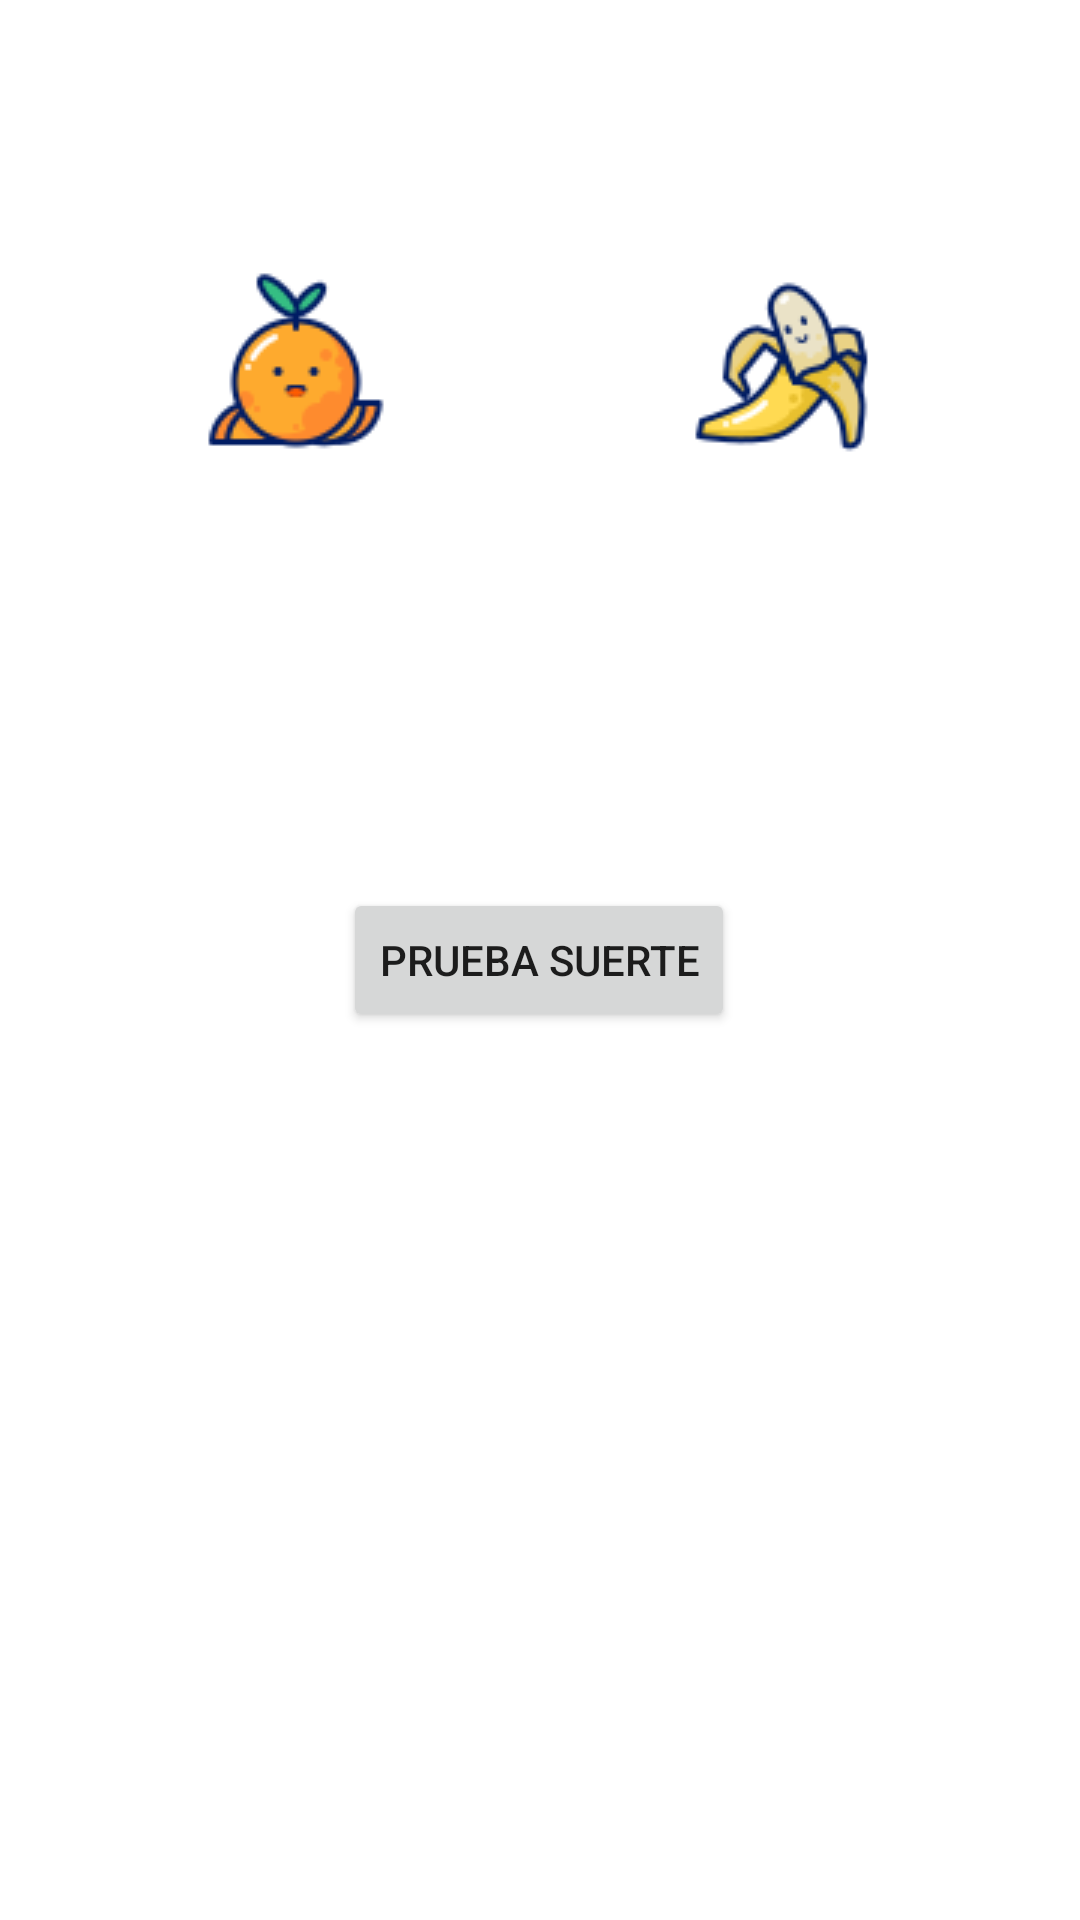

Icons on this 1080 x 1920 Android screen, each with the point to tap as (x=x, y=y):
naranja: (x=296, y=361)
platano: (x=781, y=367)
